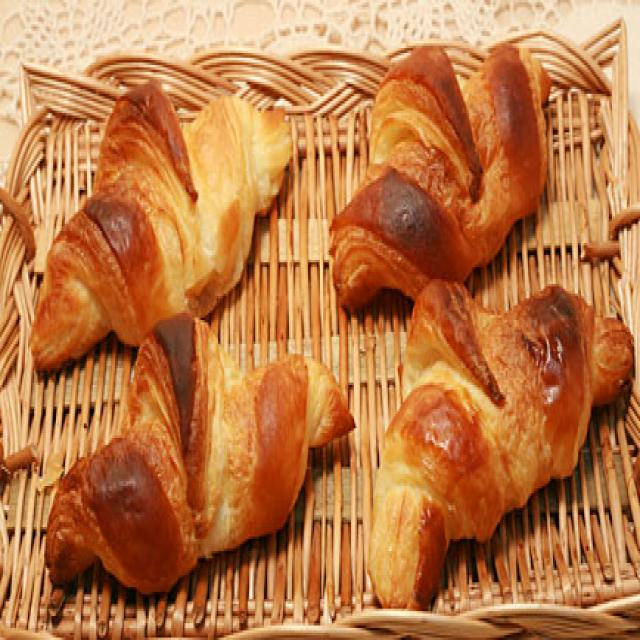面包点心: (357, 252, 640, 608)
